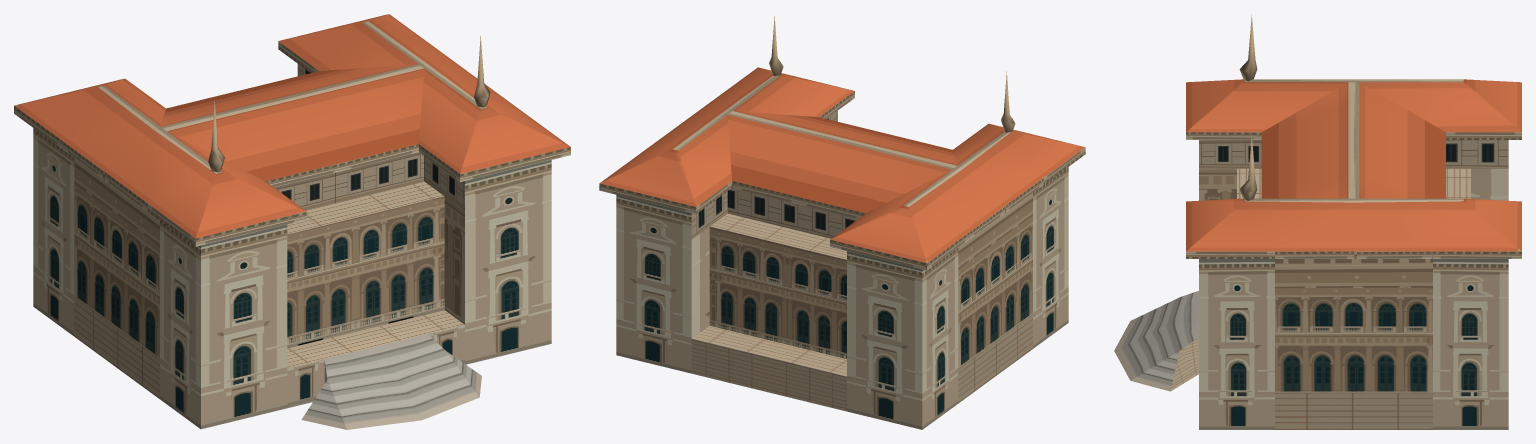
Rendered from SM_Building_Governor_Palace.fbx.
3 views of the same model, side by side, from view 1: azimuth 30°, elevation 25°; view 2: azimuth 150°, elevation 25°; view 3: azimuth 270°, elevation 25° (orthographic). The views are drawn at different scales.
Visible parts, largest first — view 1: SM_Building_Governor_Palace; view 2: SM_Building_Governor_Palace; view 3: SM_Building_Governor_Palace.
Part boxes in pixels (bbox=[...]): SM_Building_Governor_Palace: bbox=[14, 14, 570, 429]; SM_Building_Governor_Palace: bbox=[599, 16, 1085, 429]; SM_Building_Governor_Palace: bbox=[1114, 14, 1521, 429].
Bounding box in the file's own units: 49.13 × 37.48 × 50.02.
